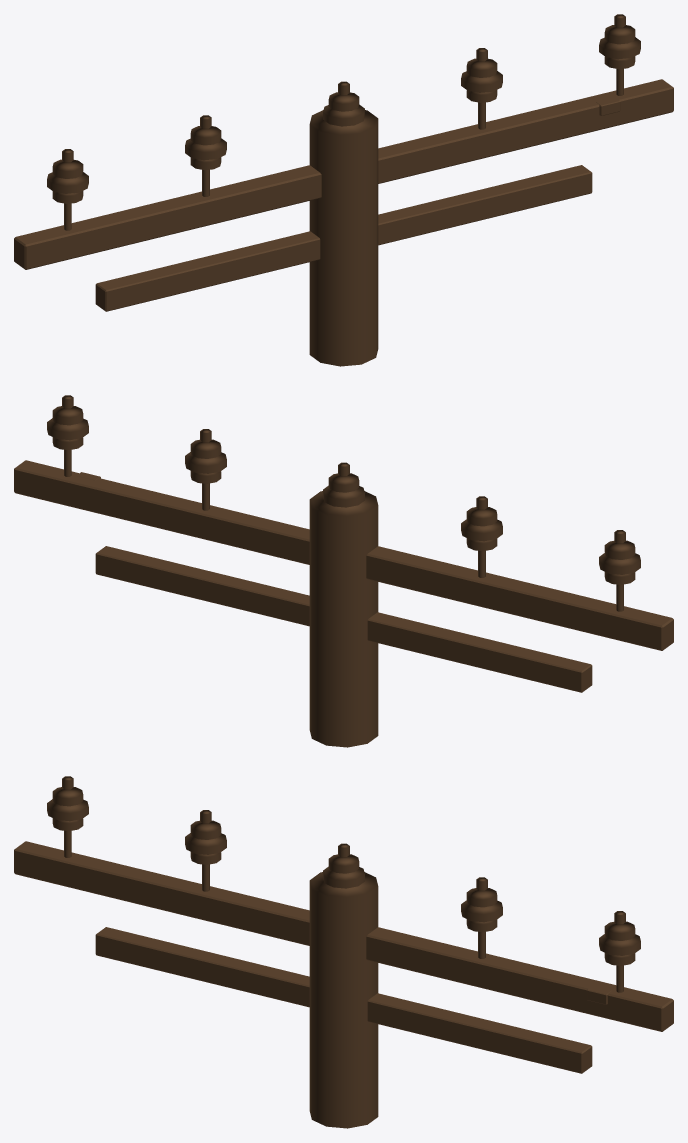
The model's file is crossarm_01.obj.
3 views of the same model, one above another, from view 1: azimuth 30°, elevation 25°; view 2: azimuth 150°, elevation 25°; view 3: azimuth 330°, elevation 25° (orthographic).
Visible parts, largest first — view 1: crossarm_01; view 2: crossarm_01; view 3: crossarm_01.
Boxes of the visible parts, x1,y1,x2,y2 form: crossarm_01: (14,14,673,366); crossarm_01: (14,395,673,747); crossarm_01: (14,776,673,1128).
Size of the model in its own units: 1.92 by 0.756 by 0.18.
